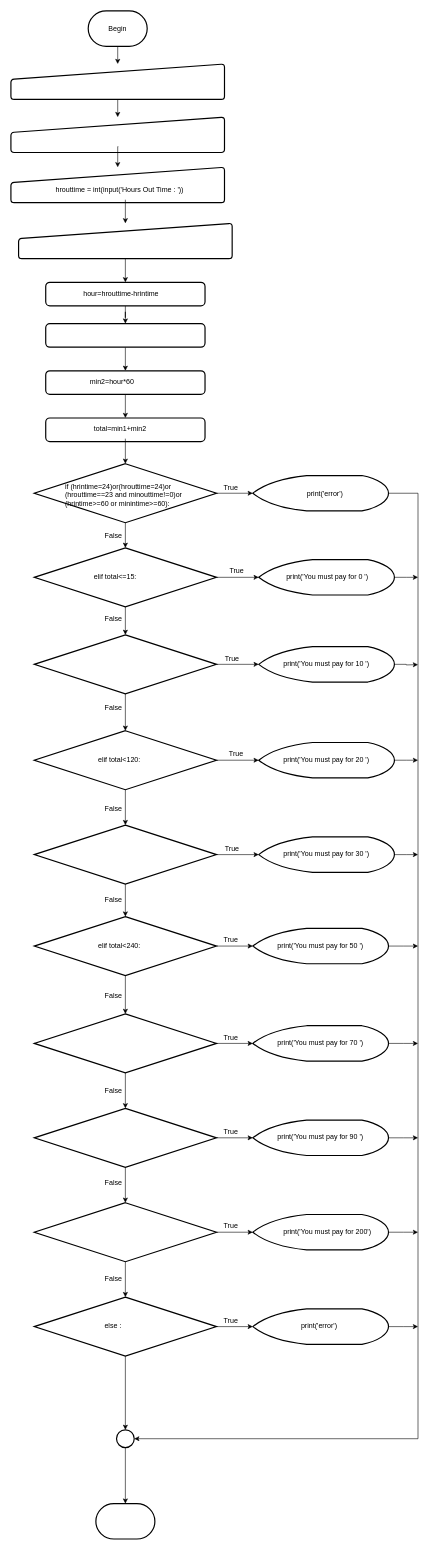
The diagram is 433 pixels wide and 1549 high, and some of its shapes have lost their labels. The shapes that lost their labels are listed below. From the top down, each one's box as (x1, y1, x2, y2) in pixels, then its label:
(10, 63, 225, 100): hrintime = int(input('Hours In Time : '))
(10, 116, 225, 153): minintime = int(input('Minute In Time : '))
(18, 222, 232, 259): minouttime = int(input('Minute Out Time : '))
(45, 323, 205, 348): min1=minouttime-minintime
(33, 634, 217, 694): elif total<60:
(33, 824, 217, 884): elif total<=180:
(33, 1013, 217, 1073): elif total<300:
(33, 1107, 217, 1168): elif total<360:
(33, 1202, 217, 1262): elif total>360 and total<960:
(95, 1503, 155, 1539): End
